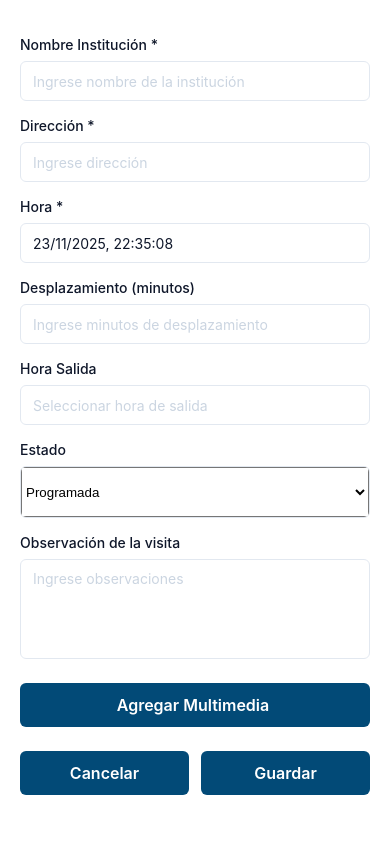
Test: VisitForm - Multimedia Upload › abre el modal de multimedia al presionar el botón
Click the text "Agregar Multimedia": (195, 705) 117,695 -> 273,715
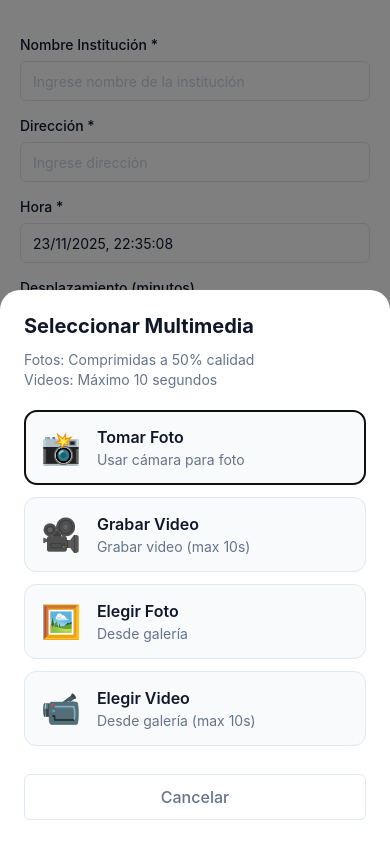
Expected: the text "Seleccionar Multimedia" is shown, 24,314 -> 254,338
Expected: the text "Tomar Foto" is shown, 97,427 -> 184,447
Expected: the text "Grabar Video" is shown, 97,514 -> 199,534
